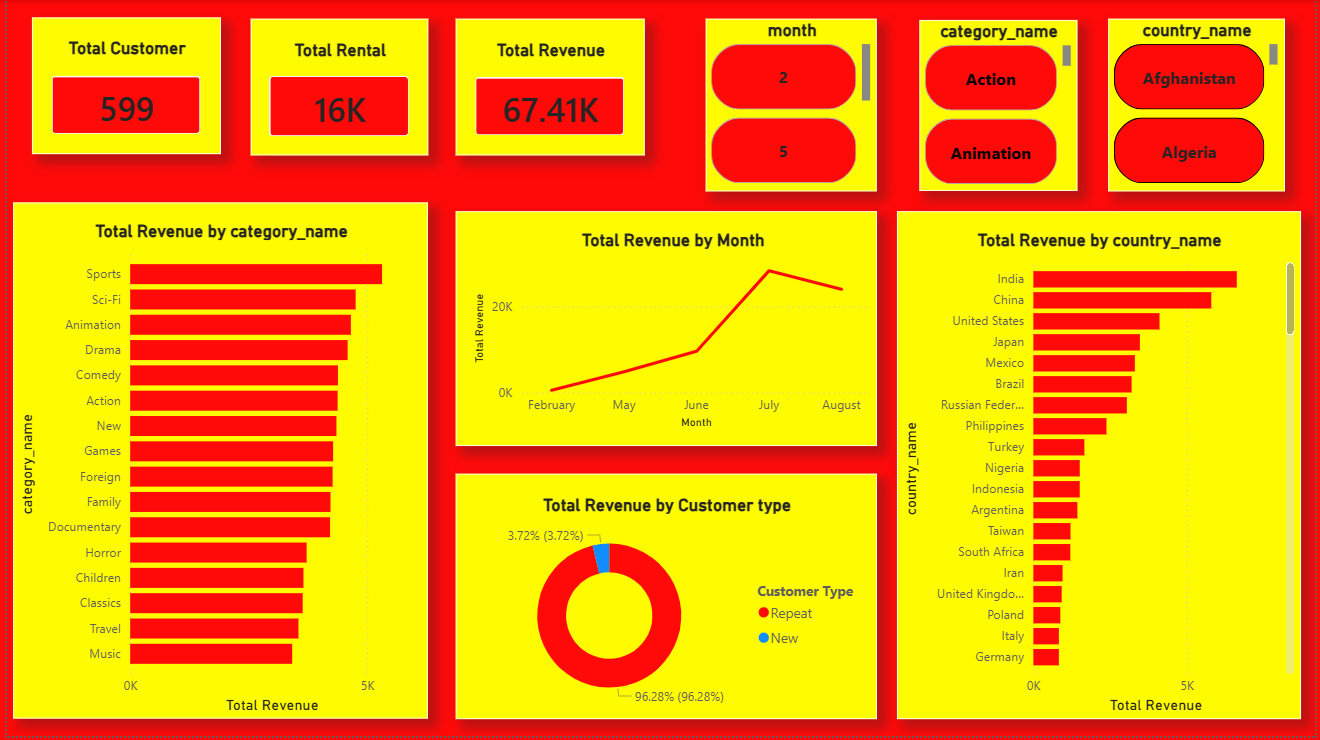

What the dashboard file says about the page in this screenshot:
{"tool":"powerbi","page":{"name":"overview","canvas":[1280,720],"ordinal":1},"visuals":[{"type":"cardVisual","title":"Total Customer","fields":{"Data":["rental.Total Customers"]},"box":[24.5,17.1,184.6,133.3],"z":0},{"type":"cardVisual","title":"Total Revenue","fields":{"Data":["rental.Total Revenue"]},"box":[439,18.3,184.6,133.3],"z":1000},{"type":"cardVisual","title":"Total Rental","fields":{"Data":["rental.Total Rentals"]},"box":[238.5,18.3,173.6,133.3],"z":2000},{"type":"donutChart","title":"Total Revenue by Customer type","fields":{"Category":["payment.Customer Type"],"Y":["Divide(rental.Total Revenue, ScopedEval(rental.Total Revenue, []))"]},"box":[439,463.5,412.1,239.7],"z":3000},{"type":"lineChart","fields":{"Y":["rental.Total Revenue"],"Category":["payment.payment_date.Variation.Date Hierarchy.Month"]},"box":[439,206.7,412.1,229.9],"z":4000},{"type":"barChart","fields":{"Category":["rental.category_name"],"Y":["rental.Total Revenue"]},"box":[6.1,198.1,406,505],"z":5000},{"type":"barChart","fields":{"Category":["rental.country_name"],"Y":["rental.Total Revenue"]},"box":[870.7,206.7,395,496.5],"z":6000},{"type":"advancedSlicerVisual","fields":{"Values":["rental.month"]},"box":[683.6,18.3,167.5,168.8],"z":7000},{"type":"advancedSlicerVisual","fields":{"Values":["rental.category_name"]},"box":[892.7,19.6,154.1,167.5],"z":8000},{"type":"advancedSlicerVisual","fields":{"Values":["rental.country_name"]},"box":[1077.3,18.3,172.4,168.8],"z":9000}]}

Visuals, with their boxes in screenshot pixels (x1, y1, x2, y2), scaled from the page's 1280x720 canvas onto the 1320x740 screenshot:
"Total Customer" cardVisual: x1=25, y1=18, x2=216, y2=155
"Total Revenue" cardVisual: x1=453, y1=19, x2=643, y2=156
"Total Rental" cardVisual: x1=246, y1=19, x2=425, y2=156
"Total Revenue by Customer type" donutChart: x1=453, y1=476, x2=878, y2=723
lineChart - rental.Total Revenue x payment.payment_date.Variation.Date Hierarchy.Month: x1=453, y1=212, x2=878, y2=449
barChart - rental.category_name x rental.Total Revenue: x1=6, y1=204, x2=425, y2=723
barChart - rental.country_name x rental.Total Revenue: x1=898, y1=212, x2=1305, y2=723
advancedSlicerVisual - rental.month: x1=705, y1=19, x2=878, y2=192
advancedSlicerVisual - rental.category_name: x1=921, y1=20, x2=1080, y2=192
advancedSlicerVisual - rental.country_name: x1=1111, y1=19, x2=1289, y2=192
